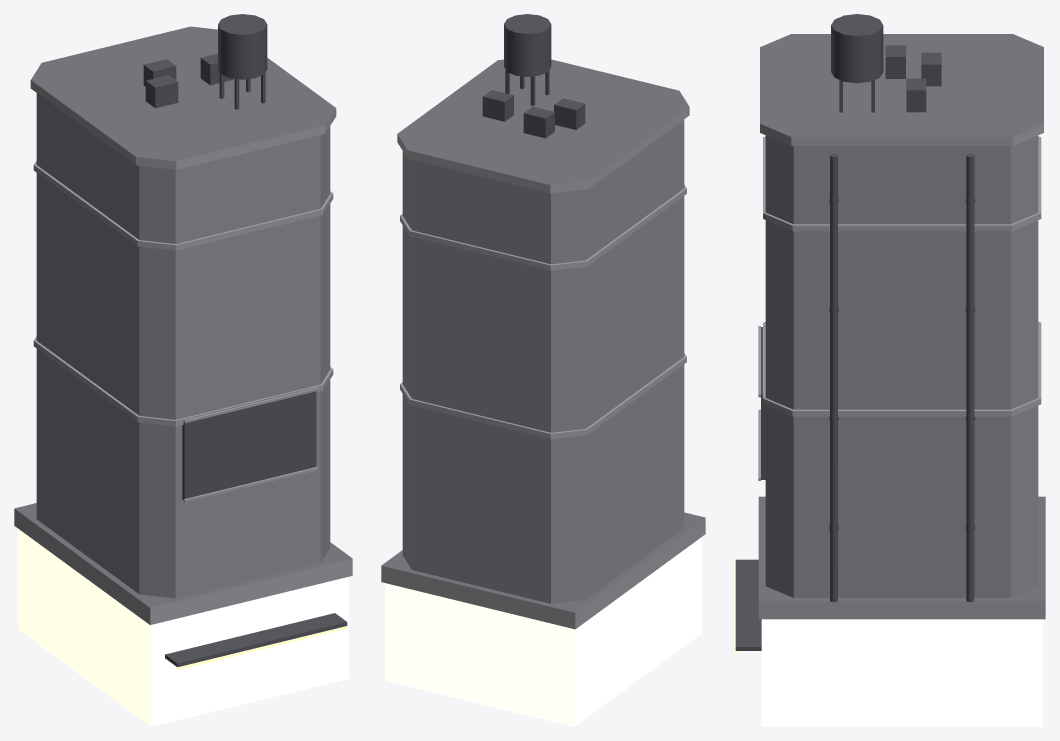
File: r1214_cham.glb
3 renders of one model, left to right at view 1: azimuth 30°, elevation 25°; view 2: azimuth 150°, elevation 25°; view 3: azimuth 270°, elevation 25°, orthographic. The views are drawn at different scales.
Parts seen in each view (by area): view 1: r1214_cham; view 2: r1214_cham; view 3: r1214_cham.
Part boxes in pixels (x1=…): r1214_cham: x1=14, y1=14, x2=352, y2=726; r1214_cham: x1=381, y1=14, x2=705, y2=726; r1214_cham: x1=734, y1=14, x2=1045, y2=726.
Bounding box in the file's own units: 12.45 × 36.9 × 15.51.
